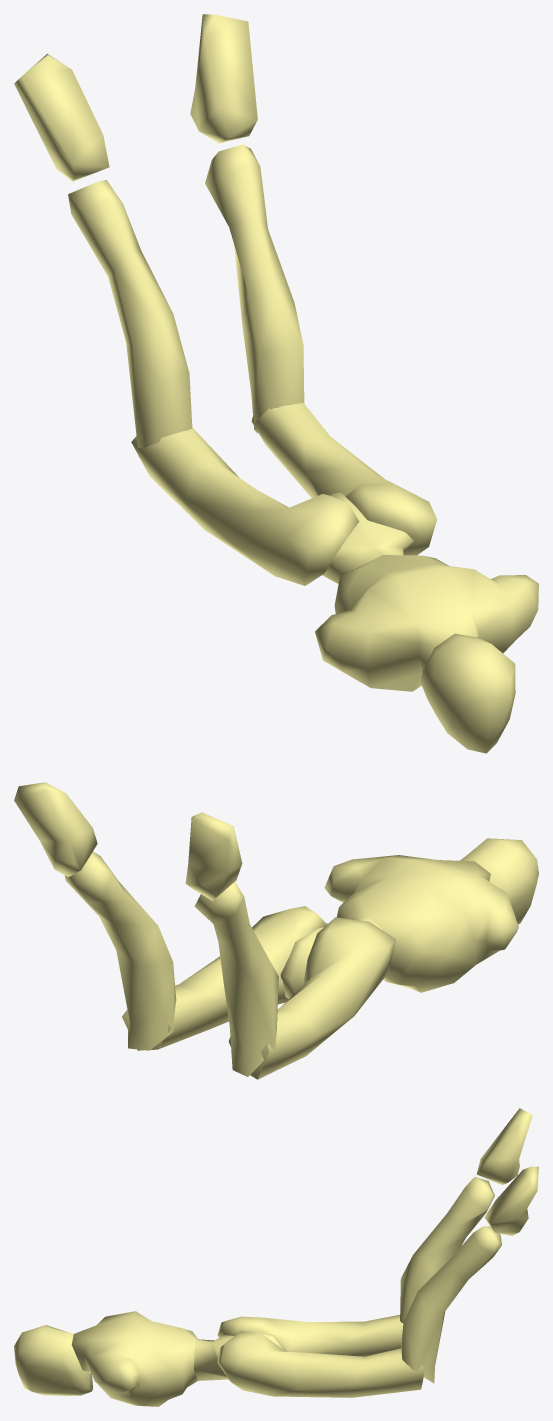
Rendered from filth72.obj.
3 views of the same model, one above another, from view 1: azimuth 30°, elevation 25°; view 2: azimuth 150°, elevation 25°; view 3: azimuth 270°, elevation 25° (orthographic). The views are drawn at different scales.
Visible parts, largest first — view 1: Melee_Husk; view 2: Melee_Husk; view 3: Melee_Husk.
Part boxes in pixels (x1,y1,x2,y2): Melee_Husk: [14, 14, 538, 753]; Melee_Husk: [14, 782, 538, 1079]; Melee_Husk: [14, 1108, 538, 1406].
Bounding box in the file's own units: 23.73 × 39.94 × 70.43.
